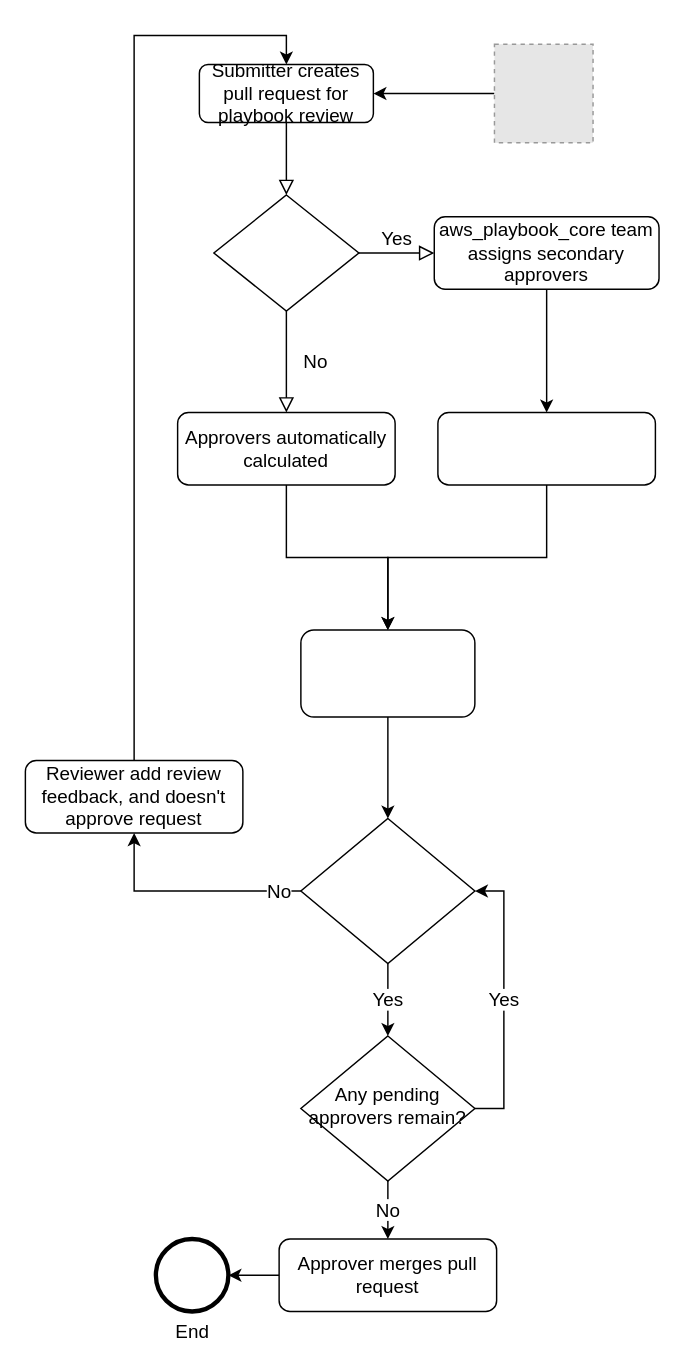
Some shapes in this 684 by 1370 pixel diagram are drawn without their labels. Grey dashed boxes stand in for pictures. The shapes that lost their labels are listed below. From the top down, each one's centre as x and y in pixels, then its label:
(285,252): New Service
(545,448): aws_playbook_core updates secondary approver config
(387,673): Approvers review playbook
(387,890): Reviewer approved?
